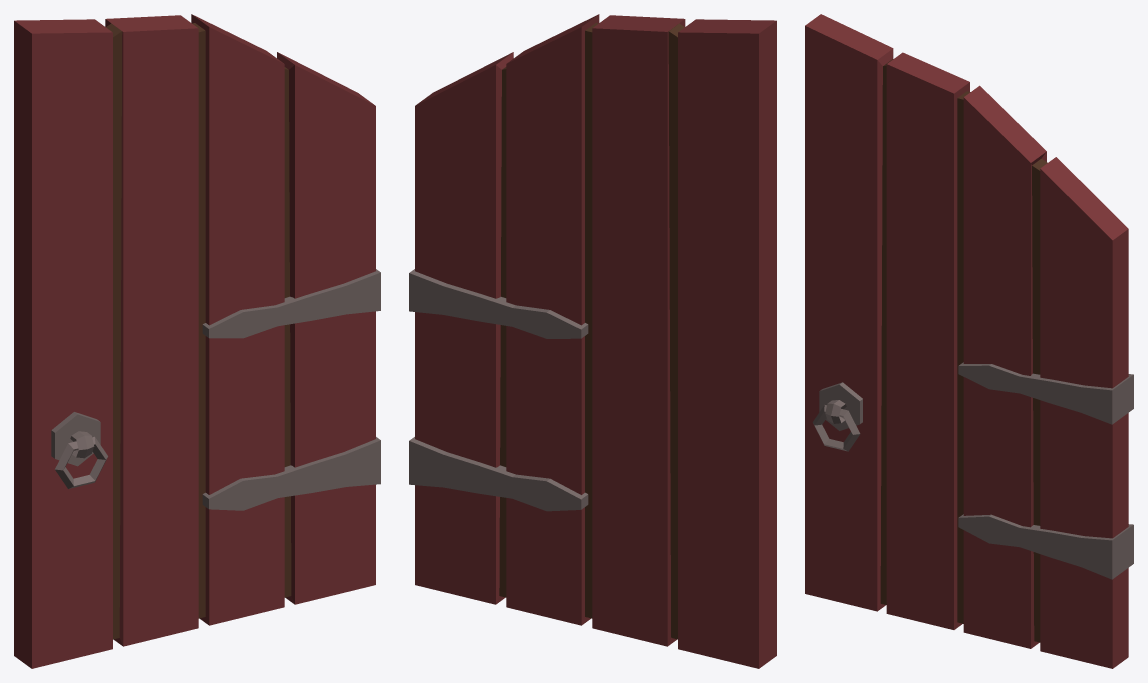
The model's file is Door2.fbx.
The picture shows the model from 3 angles, left to right: view 1: azimuth 30°, elevation 25°; view 2: azimuth 150°, elevation 25°; view 3: azimuth 330°, elevation 25°; orthographic projection. The views are drawn at different scales.
Parts seen in each view (by area): view 1: Door.001; view 2: Door.001; view 3: Door.001.
Boxes of the visible parts, x1,y1,x2,y2 form: Door.001: [14, 14, 380, 668]; Door.001: [409, 14, 776, 668]; Door.001: [805, 14, 1133, 668].
Bounding box in the file's own units: 259 × 455 × 45.23.
